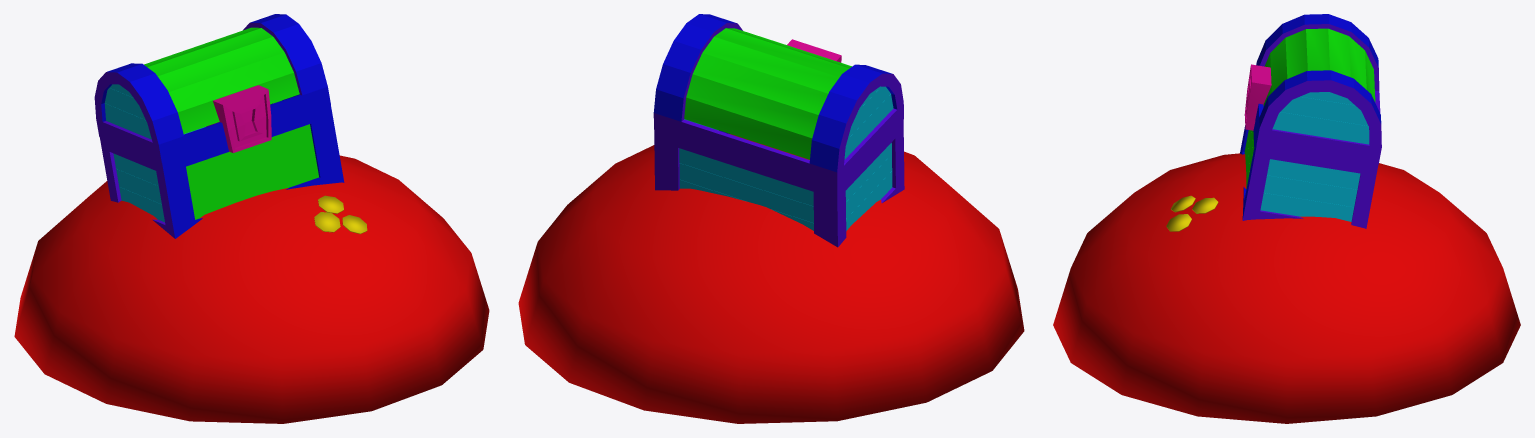
Rendered from Isla tutorial.fbx.
3 renders of one model, left to right at view 1: azimuth 30°, elevation 25°; view 2: azimuth 150°, elevation 25°; view 3: azimuth 270°, elevation 25°, orthographic. The views are drawn at different scales.
Visible parts, largest first — view 1: tutorial; view 2: tutorial; view 3: tutorial.
Part boxes in pixels (left/top/right/bottom): tutorial: left=14, top=14, right=489, bottom=423; tutorial: left=518, top=14, right=1024, bottom=423; tutorial: left=1053, top=14, right=1520, bottom=423.
Size of the model in its own units: 2.57 by 1.65 by 2.57.
